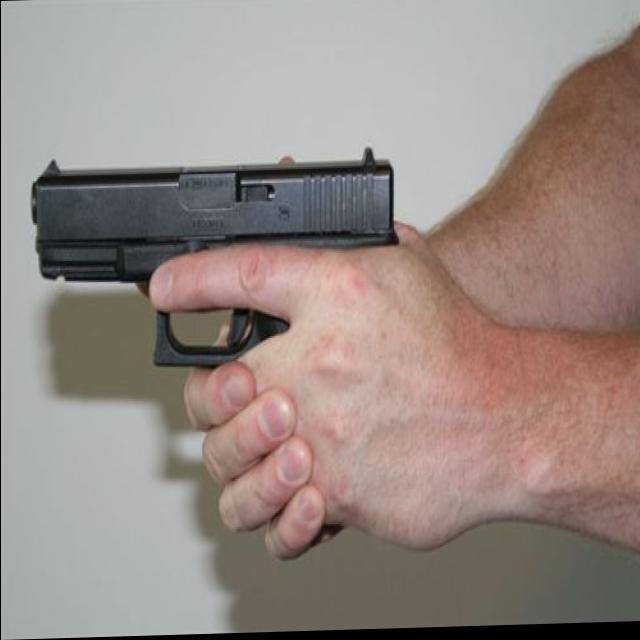handgun: (31, 140, 397, 558)
